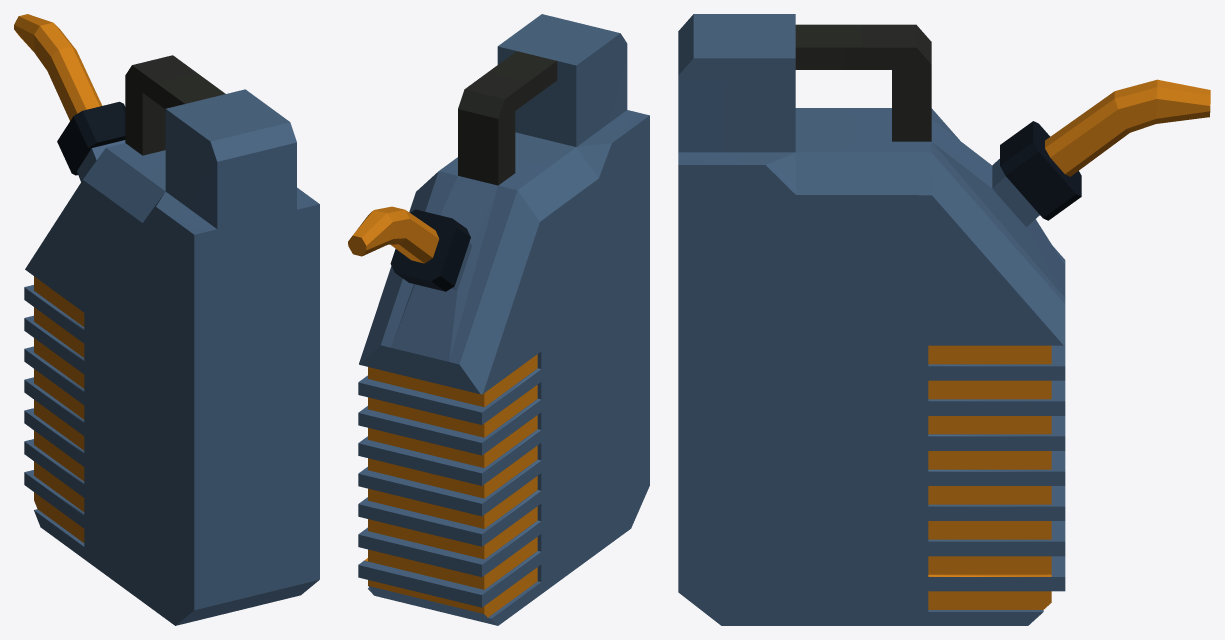
The model's file is Oil-drum.fbx.
The picture shows the model from 3 angles, left to right: view 1: azimuth 30°, elevation 25°; view 2: azimuth 150°, elevation 25°; view 3: azimuth 270°, elevation 25°; orthographic projection. The views are drawn at different scales.
Parts seen in each view (by area): view 1: Oil-drum; view 2: Oil-drum; view 3: Oil-drum.
Boxes of the visible parts, x1,y1,x2,y2 form: Oil-drum: (14, 14, 319, 625); Oil-drum: (348, 14, 649, 625); Oil-drum: (678, 14, 1210, 625).
Bounding box in the file's own units: 36.39 × 135 × 117.
1 material, 1 textured.
